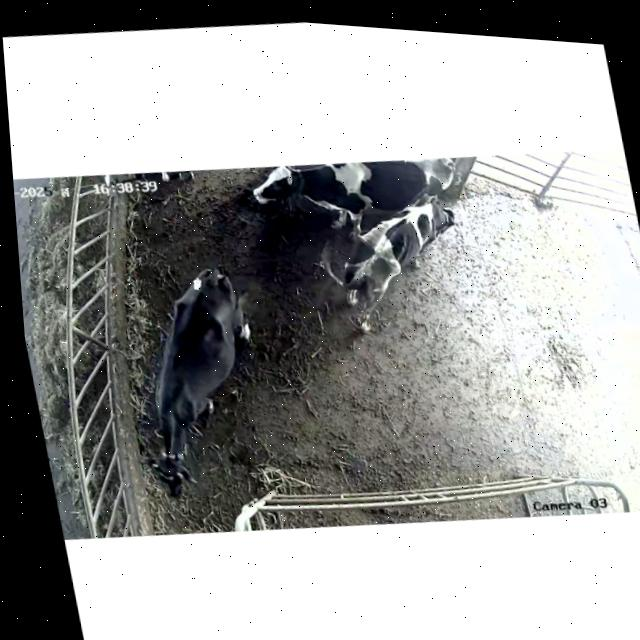stand: (143, 266, 250, 496), (321, 192, 454, 330), (252, 157, 453, 235)
